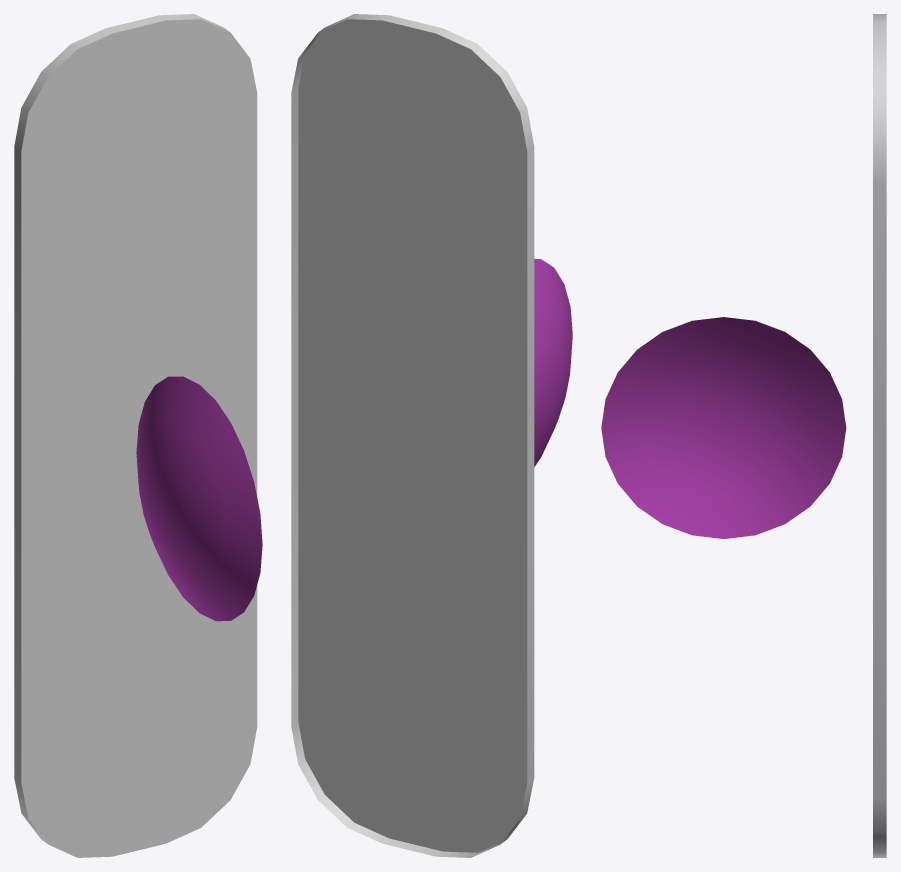
File: Trap_Props2.fbx
The picture shows the model from 3 angles, left to right: view 1: azimuth 30°, elevation 25°; view 2: azimuth 150°, elevation 25°; view 3: azimuth 270°, elevation 25°; orthographic projection. The views are drawn at different scales.
Visible parts, largest first — view 1: Plane.002, Plane, Sphere.001, Plane.001; view 2: Plane.002, Plane, Plane.001, Sphere.001; view 3: Sphere.001, Plane.002, Plane, Plane.001.
Boxes of the visible parts, x1,y1,x2,y2 form: Plane.002: (14, 14, 257, 403); Plane: (14, 480, 257, 857); Sphere.001: (136, 376, 262, 621); Plane.001: (14, 346, 257, 537); Plane.002: (291, 14, 534, 402); Plane: (291, 475, 534, 857); Plane.001: (291, 340, 534, 537); Sphere.001: (534, 259, 572, 466); Sphere.001: (601, 317, 846, 538); Plane.002: (873, 14, 886, 429); Plane: (873, 560, 886, 857); Plane.001: (873, 429, 886, 560).
Bounding box in the file's own units: 0.6 × 2 × 0.647.
Materials: 1 (1 with a texture image).
